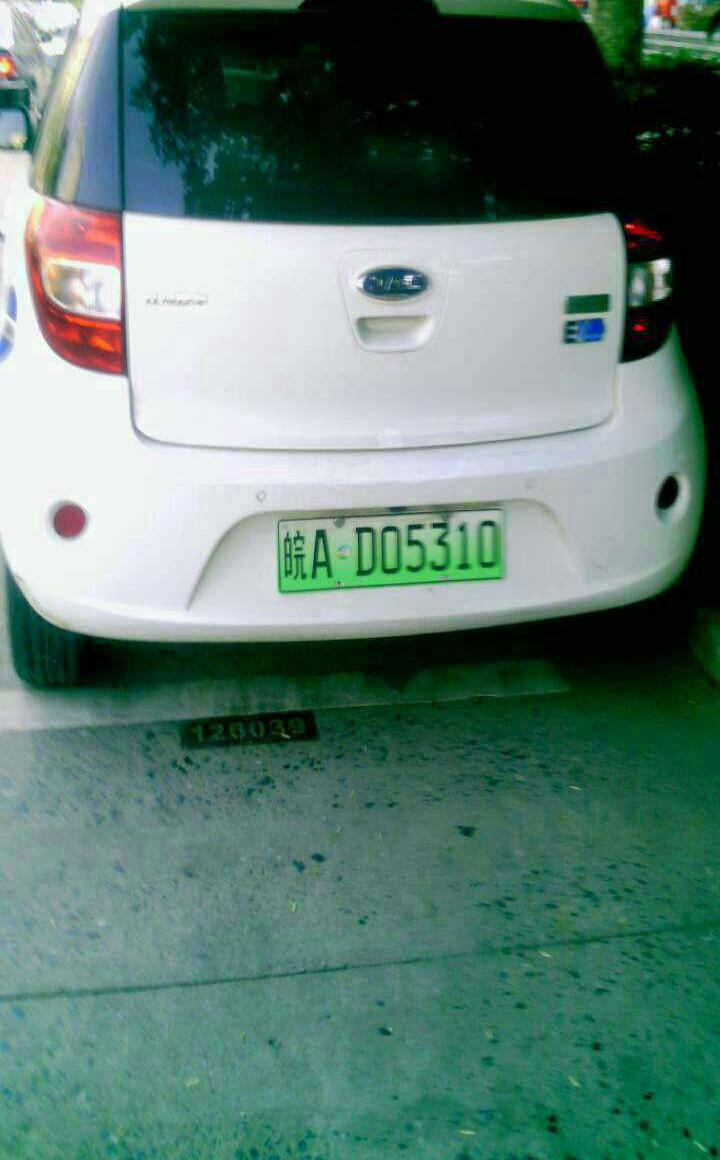car_green: (275, 522, 508, 584)
